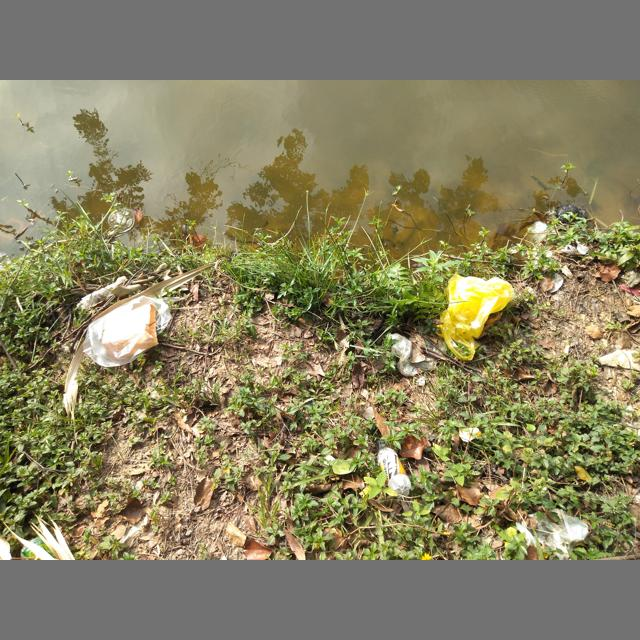litter: (436, 272, 514, 362), (83, 296, 171, 367), (515, 509, 589, 560), (102, 301, 158, 360), (373, 431, 411, 496), (391, 333, 437, 376), (21, 537, 57, 559), (108, 207, 137, 233), (525, 221, 548, 248), (561, 243, 588, 255)
